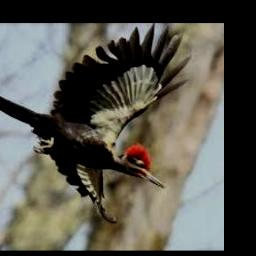Woodpecker: (0, 23, 191, 222)
